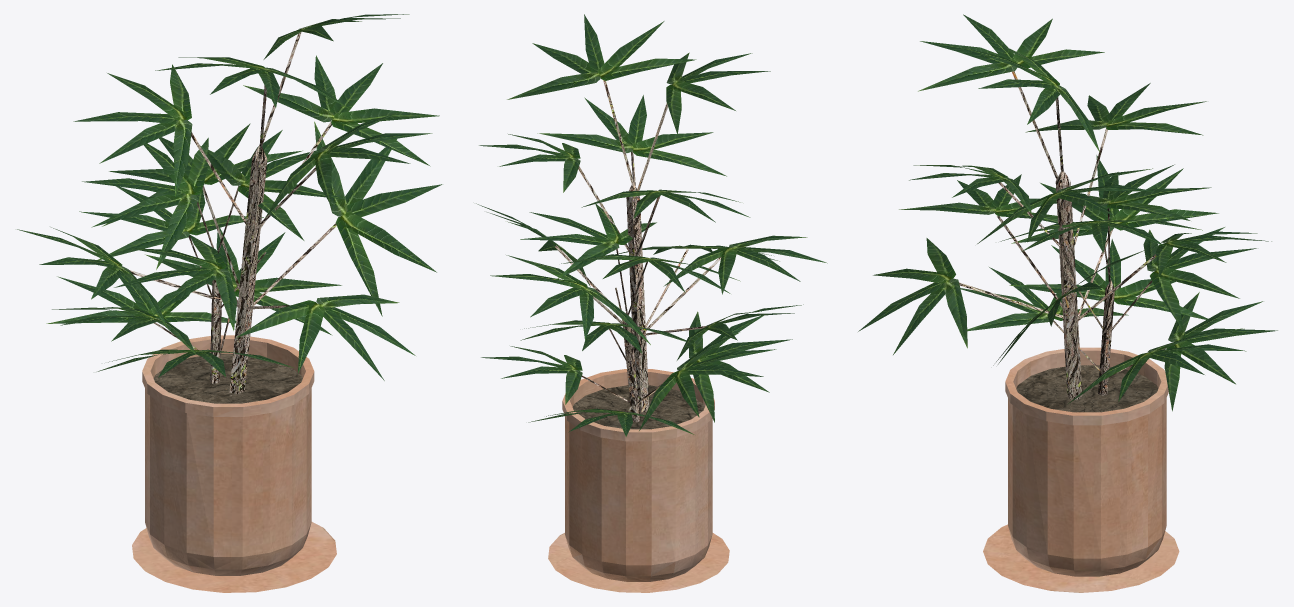
The picture shows the model from 3 angles, left to right: view 1: azimuth 30°, elevation 25°; view 2: azimuth 150°, elevation 25°; view 3: azimuth 270°, elevation 25°; orthographic projection. The views are drawn at different scales.
Parts seen in each view (by area): view 1: big_pot.007; view 2: big_pot.007; view 3: big_pot.007.
Boxes of the visible parts, box(x1,y1,x2,y2) form: big_pot.007: box(17, 14, 442, 592); big_pot.007: box(476, 14, 827, 592); big_pot.007: box(858, 14, 1277, 592).
Size of the model in its own units: 1.09 by 1.1 by 1.5.
Materials: 4 (4 with a texture image).
